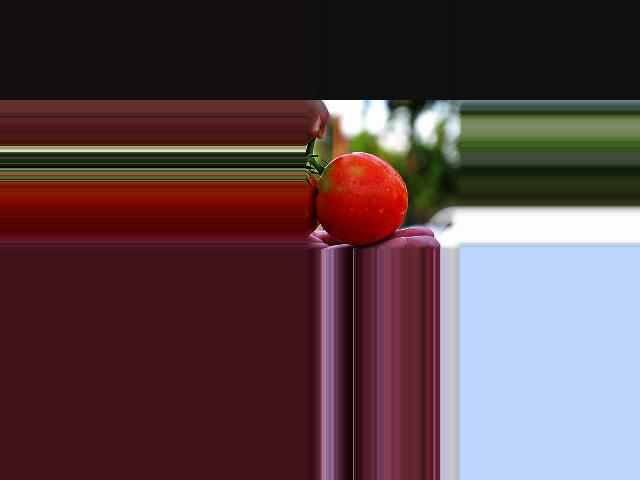tomato: (316, 152, 407, 245)
